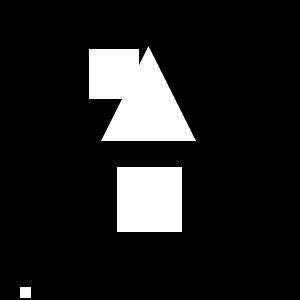circle: (117, 167, 182, 232), (89, 49, 139, 99), (20, 287, 31, 298)
triangle: (101, 46, 196, 141)
